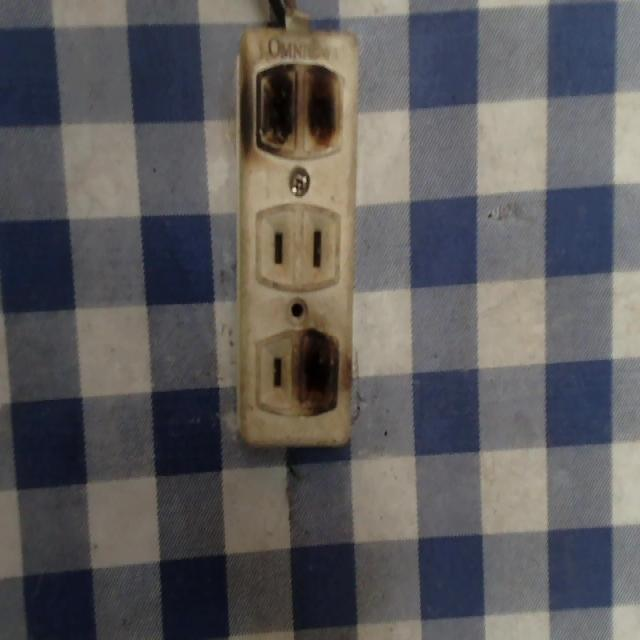-: (235, 48, 351, 168), (293, 324, 342, 420)
